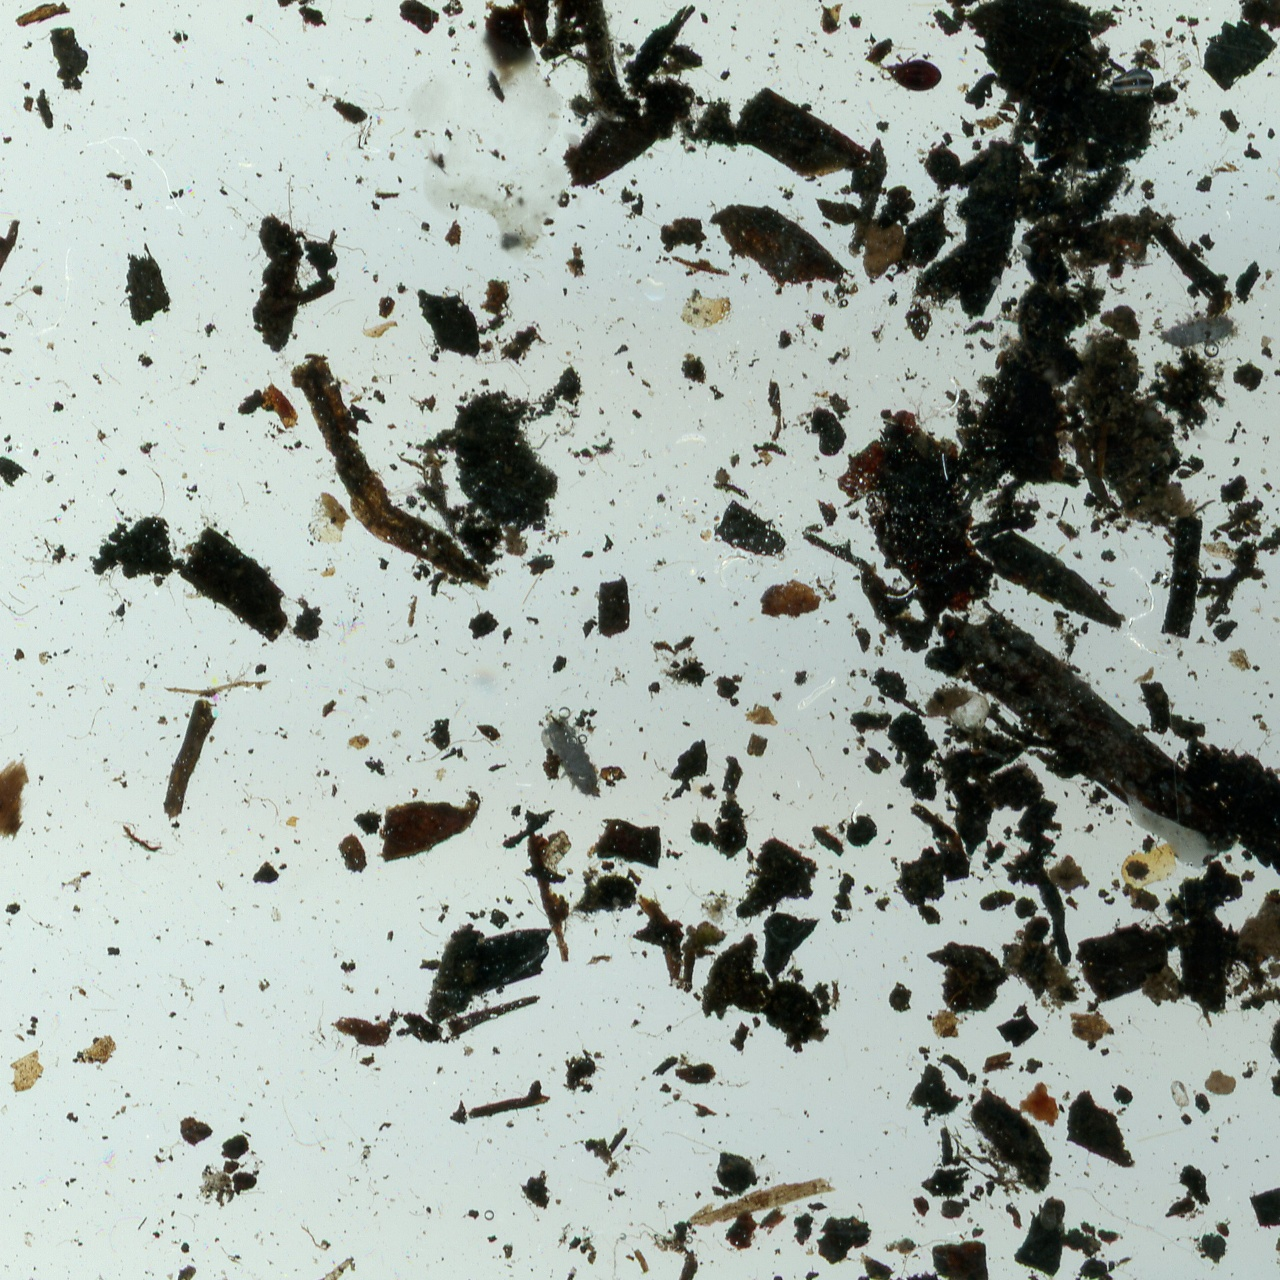arthropod: (1155, 308, 1240, 356), (877, 49, 945, 95), (1269, 1186, 1280, 1280)
